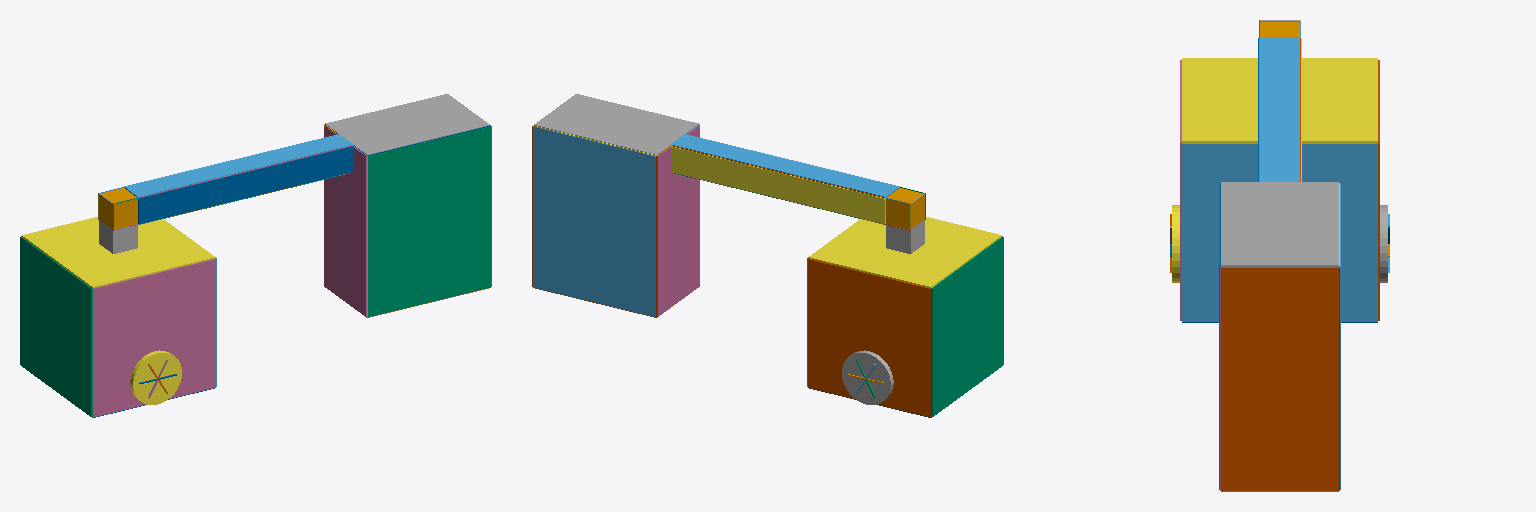
--- Facts derived from the render (not from the file) ---
Views: 3 orthographic renders of the robot side by side, from view 1: azimuth 30°, elevation 25°; view 2: azimuth 150°, elevation 25°; view 3: azimuth 270°, elevation 25°.
Robot: robot — 65 links, 64 joints (4 continuous, 60 fixed); root link body; default pose: every joint at zero.
Visible links, largest first — view 1: hand_sensor_0_right, body_sensor_0_right, body_sensor_0_stop, body_sensor_0_top, hand_sensor_0_stop, arm_sensor_0_right, hand_sensor_0_top, arm_sensor_0_top, right_wheel, joint_2, joint_1; view 2: hand_sensor_0_left, body_sensor_0_left, body_sensor_0_stop, body_sensor_0_top, hand_sensor_0_stop, arm_sensor_0_left, hand_sensor_0_top, arm_sensor_0_top, left_wheel, joint_2, joint_1; view 3: hand_sensor_0_start, body_sensor_0_start, body_sensor_0_top, hand_sensor_0_top, arm_sensor_0_top, left_wheel, right_wheel, joint_2.
Link boxes in pixels (x1,y1,x2,y2): hand_sensor_0_right: [368, 126, 490, 316]; body_sensor_0_right: [93, 258, 215, 417]; body_sensor_0_stop: [20, 237, 92, 416]; body_sensor_0_top: [22, 217, 215, 287]; hand_sensor_0_stop: [324, 125, 366, 316]; arm_sensor_0_right: [138, 146, 352, 223]; hand_sensor_0_top: [325, 94, 489, 154]; arm_sensor_0_top: [124, 134, 352, 197]; right_wheel: [130, 350, 181, 404]; joint_2: [99, 188, 137, 229]; joint_1: [99, 220, 137, 253]; hand_sensor_0_left: [533, 126, 655, 316]; body_sensor_0_left: [808, 258, 930, 417]; body_sensor_0_stop: [931, 237, 1003, 416]; body_sensor_0_top: [808, 217, 1001, 287]; hand_sensor_0_stop: [657, 125, 699, 316]; arm_sensor_0_left: [671, 146, 885, 223]; hand_sensor_0_top: [534, 94, 698, 154]; arm_sensor_0_top: [671, 134, 899, 197]; left_wheel: [842, 350, 893, 404]; joint_2: [886, 188, 924, 229]; joint_1: [886, 220, 924, 253]; hand_sensor_0_start: [1221, 267, 1338, 490]; body_sensor_0_start: [1182, 143, 1377, 321]; body_sensor_0_top: [1182, 58, 1377, 142]; hand_sensor_0_top: [1221, 182, 1338, 265]; arm_sensor_0_top: [1260, 37, 1299, 181]; left_wheel: [1380, 205, 1387, 282]; right_wheel: [1172, 205, 1179, 282]; joint_2: [1260, 22, 1299, 36].
Bounding box of the posed robot: 3.37 × 1.12 × 1.42 m (x, y, z).
Geometry: primitives only (box / cylinder / sphere), no mesh files.

robot.urdf — robot:
<?xml version="1.0"?>
    <robot name="robot">


    <!-- body -->
    <link name="body">
        <inertial>
            <origin xyz="0 0 0" rpy="0 0 0"/>
            <mass value="100"/>
            <inertia ixx="15" ixy="0" ixz="0" iyy="15" iyz="0" izz="15"/>
        </inertial>
        <visual>
            <origin xyz="0 0 0" rpy="0 0 0"/>
            <geometry>
                <box size="1 1 1"/>
            </geometry>
        </visual>
        <collision>
            <origin xyz="0 0 0" rpy="0 0 0"/>
            <geometry>
                <box size="1 1 1"/>
            </geometry>
        </collision>
    </link>


    <!-- body_sensor_0_start -->
    <link name="body_sensor_0_start">
        <inertial>
            <origin xyz="0 0 0" rpy="0 0 0"/>
            <mass value="0"/>
            <inertia ixx="0" ixy="0" ixz="0" iyy="0" iyz="0" izz="0"/>
        </inertial>
        <visual>
            <origin xyz="0 0 0" rpy="0 0 0"/>
            <geometry>
                <box size="0.02 1 1"/>
            </geometry>
        </visual>
        <collision>
            <origin xyz="0 0 0" rpy="0 0 0"/>
            <geometry>
                <box size="0.02 1 1"/>
            </geometry>
        </collision>
    </link>
    <!-- Joint: body, body_sensor_0_start -->
    <joint name="body_body_sensor_0_start_joint" type="fixed">
        <parent link="body"/>
        <child link="body_sensor_0_start"/>
        <origin xyz="0.5 0 0"
                rpy="0 0 0"/>
        <axis xyz="0 0 1"/>
        
    </joint>


    <!-- body_sensor_0_stop -->
    <link name="body_sensor_0_stop">
        <inertial>
            <origin xyz="0 0 0" rpy="0 0 0"/>
            <mass value="0"/>
            <inertia ixx="0" ixy="0" ixz="0" iyy="0" iyz="0" izz="0"/>
        </inertial>
        <visual>
            <origin xyz="0 0 0" rpy="0 0 0"/>
            <geometry>
                <box size="0.02 1 1"/>
            </geometry>
        </visual>
        <collision>
            <origin xyz="0 0 0" rpy="0 0 0"/>
            <geometry>
                <box size="0.02 1 1"/>
            </geometry>
        </collision>
    </link>
    <!-- Joint: body, body_sensor_0_stop -->
    <joint name="body_body_sensor_0_stop_joint" type="fixed">
        <parent link="body"/>
        <child link="body_sensor_0_stop"/>
        <origin xyz="-0.5 0 0"
                rpy="0 0 0"/>
        <axis xyz="0 0 1"/>
        
    </joint>


    <!-- body_sensor_0_top -->
    <link name="body_sensor_0_top">
        <inertial>
            <origin xyz="0 0 0" rpy="0 0 0"/>
            <mass value="0"/>
            <inertia ixx="0" ixy="0" ixz="0" iyy="0" iyz="0" izz="0"/>
        </inertial>
        <visual>
            <origin xyz="0 0 0" rpy="0 0 0"/>
            <geometry>
                <box size="1.0 1 0.02"/>
            </geometry>
        </visual>
        <collision>
            <origin xyz="0 0 0" rpy="0 0 0"/>
            <geometry>
                <box size="1.0 1 0.02"/>
            </geometry>
        </collision>
    </link>
    <!-- Joint: body, body_sensor_0_top -->
    <joint name="body_body_sensor_0_top_joint" type="fixed">
        <parent link="body"/>
        <child link="body_sensor_0_top"/>
        <origin xyz="0 0 0.5"
                rpy="0 0 0"/>
        <axis xyz="0 0 1"/>
        
    </joint>


    <!-- body_sensor_0_bottom -->
    <link name="body_sensor_0_bottom">
        <inertial>
            <origin xyz="0 0 0" rpy="0 0 0"/>
            <mass value="0"/>
            <inertia ixx="0" ixy="0" ixz="0" iyy="0" iyz="0" izz="0"/>
        </inertial>
        <visual>
            <origin xyz="0 0 0" rpy="0 0 0"/>
            <geometry>
                <box size="1.0 1 0.02"/>
            </geometry>
        </visual>
        <collision>
            <origin xyz="0 0 0" rpy="0 0 0"/>
            <geometry>
                <box size="1.0 1 0.02"/>
            </geometry>
        </collision>
    </link>
    <!-- Joint: body, body_sensor_0_bottom -->
    <joint name="body_body_sensor_0_bottom_joint" type="fixed">
        <parent link="body"/>
        <child link="body_sensor_0_bottom"/>
        <origin xyz="0 0 -0.5"
                rpy="0 0 0"/>
        <axis xyz="0 0 1"/>
        
    </joint>


    <!-- body_sensor_0_left -->
    <link name="body_sensor_0_left">
        <inertial>
            <origin xyz="0 0 0" rpy="0 0 0"/>
            <mass value="0"/>
            <inertia ixx="0" ixy="0" ixz="0" iyy="0" iyz="0" izz="0"/>
        </inertial>
        <visual>
            <origin xyz="0 0 0" rpy="0 0 0"/>
            <geometry>
                <box size="1.0 0.02 1"/>
            </geometry>
        </visual>
        <collision>
            <origin xyz="0 0 0" rpy="0 0 0"/>
            <geometry>
                <box size="1.0 0.02 1"/>
            </geometry>
        </collision>
    </link>
    <!-- Joint: body, body_sensor_0_left -->
    <joint name="body_body_sensor_0_left_joint" type="fixed">
        <parent link="body"/>
        <child link="body_sensor_0_left"/>
        <origin xyz="0 0.5 0"
                rpy="0 0 0"/>
        <axis xyz="0 0 1"/>
        
    </joint>


    <!-- body_sensor_0_right -->
    <link name="body_sensor_0_right">
        <inertial>
            <origin xyz="0 0 0" rpy="0 0 0"/>
            <mass value="0"/>
            <inertia ixx="0" ixy="0" ixz="0" iyy="0" iyz="0" izz="0"/>
        </inertial>
        <visual>
            <origin xyz="0 0 0" rpy="0 0 0"/>
            <geometry>
                <box size="1.0 0.02 1"/>
            </geometry>
        </visual>
        <collision>
            <origin xyz="0 0 0" rpy="0 0 0"/>
            <geometry>
                <box size="1.0 0.02 1"/>
            </geometry>
        </collision>
    </link>
    <!-- Joint: body, body_sensor_0_right -->
    <joint name="body_body_sensor_0_right_joint" type="fixed">
        <parent link="body"/>
        <child link="body_sensor_0_right"/>
        <origin xyz="0 -0.5 0"
                rpy="0 0 0"/>
        <axis xyz="0 0 1"/>
        
    </joint>


    <!-- left_wheel -->
    <link name="left_wheel">
        <inertial>
            <origin xyz="0 0 0" rpy="0 0 0"/>
            <mass value="0.1"/>
            <inertia ixx="0" ixy="0" ixz="0" iyy="0" iyz="0" izz="0"/>
        </inertial>
        <visual>
            <origin xyz="0 0 0" rpy="0 0 0"/>
            <geometry>
                <cylinder radius="0.2" length="0.1"/>
            </geometry>
        </visual>
        <collision>
            <origin xyz="0 0 0" rpy="0 0 0"/>
            <geometry>
                <cylinder radius="0.2" length="0.1"/>
            </geometry>
        </collision>
    </link>
    <!-- Joint: body, left_wheel -->
    <joint name="body_left_wheel_joint" type="continuous">
        <parent link="body"/>
        <child link="left_wheel"/>
        <origin xyz="0 0.5 -0.3"
                rpy="1.5708 0 0"/>
        <axis xyz="0 0 1"/>
        <limit lower="0" upper="0" effort="0" velocity="0"/>
    </joint>


    <!-- left_spoke_1 -->
    <link name="left_spoke_1">
        <inertial>
            <origin xyz="0 0 0" rpy="0 0 0"/>
            <mass value="0"/>
            <inertia ixx="0" ixy="0" ixz="0" iyy="0" iyz="0" izz="0"/>
        </inertial>
        <visual>
            <origin xyz="0 0 0" rpy="0 0 0"/>
            <geometry>
                <box size="0.3 0.01 0.1"/>
            </geometry>
        </visual>
        <collision>
            <origin xyz="0 0 0" rpy="0 0 0"/>
            <geometry>
                <box size="0.3 0.01 0.1"/>
            </geometry>
        </collision>
    </link>
    <!-- Joint: left_wheel, left_spoke_1 -->
    <joint name="left_wheel_left_spoke_1_joint" type="fixed">
        <parent link="left_wheel"/>
        <child link="left_spoke_1"/>
        <origin xyz="0 0 -0.01"
                rpy="0 0 0"/>
        <axis xyz="0 0 1"/>
        
    </joint>


    <!-- left_spoke_2 -->
    <link name="left_spoke_2">
        <inertial>
            <origin xyz="0 0 0" rpy="0 0 0"/>
            <mass value="0"/>
            <inertia ixx="0" ixy="0" ixz="0" iyy="0" iyz="0" izz="0"/>
        </inertial>
        <visual>
            <origin xyz="0 0 0" rpy="0 0 0"/>
            <geometry>
                <box size="0.01 0.3 0.1"/>
            </geometry>
        </visual>
        <collision>
            <origin xyz="0 0 0" rpy="0 0 0"/>
            <geometry>
                <box size="0.01 0.3 0.1"/>
            </geometry>
        </collision>
    </link>
    <!-- Joint: left_wheel, left_spoke_2 -->
    <joint name="left_wheel_left_spoke_2_joint" type="fixed">
        <parent link="left_wheel"/>
        <child link="left_spoke_2"/>
        <origin xyz="0 0 -0.01"
                rpy="0 0 0.524"/>
        <axis xyz="0 0 1"/>
        
    </joint>


    <!-- left_spoke_3 -->
    <link name="left_spoke_3">
        <inertial>
            <origin xyz="0 0 0" rpy="0 0 0"/>
            <mass value="0"/>
            <inertia ixx="0" ixy="0" ixz="0" iyy="0" iyz="0" izz="0"/>
        </inertial>
        <visual>
            <origin xyz="0 0 0" rpy="0 0 0"/>
            <geometry>
                <box size="0.01 0.3 0.1"/>
            </geometry>
        </visual>
        <collision>
            <origin xyz="0 0 0" rpy="0 0 0"/>
            <geometry>
                <box size="0.01 0.3 0.1"/>
            </geometry>
        </collision>
    </link>
    <!-- Joint: left_wheel, left_spoke_3 -->
    <joint name="left_wheel_left_spoke_3_joint" type="fixed">
        <parent link="left_wheel"/>
        <child link="left_spoke_3"/>
        <origin xyz="0 0 -0.01"
                rpy="0 0 -0.524"/>
        <axis xyz="0 0 1"/>
        
    </joint>


    <!-- right_wheel -->
    <link name="right_wheel">
        <inertial>
            <origin xyz="0 0 0" rpy="0 0 0"/>
            <mass value="0.1"/>
            <inertia ixx="0" ixy="0" ixz="0" iyy="0" iyz="0" izz="0"/>
        </inertial>
        <visual>
            <origin xyz="0 0 0" rpy="0 0 0"/>
            <geometry>
                <cylinder radius="0.2" length="0.1"/>
            </geometry>
        </visual>
        <collision>
            <origin xyz="0 0 0" rpy="0 0 0"/>
            <geometry>
                <cylinder radius="0.2" length="0.1"/>
            </geometry>
        </collision>
    </link>
    <!-- Joint: body, right_wheel -->
    <joint name="body_right_wheel_joint" type="continuous">
        <parent link="body"/>
        <child link="right_wheel"/>
        <origin xyz="0 -0.5 -0.3"
                rpy="1.5708 0 0"/>
        <axis xyz="0 0 1"/>
        <limit lower="0" upper="0" effort="0" velocity="0"/>
    </joint>


    <!-- right_spoke_1 -->
    <link name="right_spoke_1">
        <inertial>
            <origin xyz="0 0 0" rpy="0 0 0"/>
            <mass value="0"/>
            <inertia ixx="0" ixy="0" ixz="0" iyy="0" iyz="0" izz="0"/>
        </inertial>
        <visual>
            <origin xyz="0 0 0" rpy="0 0 0"/>
            <geometry>
                <box size="0.3 0.01 0.1"/>
            </geometry>
        </visual>
        <collision>
            <origin xyz="0 0 0" rpy="0 0 0"/>
            <geometry>
                <box size="0.3 0.01 0.1"/>
            </geometry>
        </collision>
    </link>
    <!-- Joint: right_wheel, right_spoke_1 -->
    <joint name="right_wheel_right_spoke_1_joint" type="fixed">
        <parent link="right_wheel"/>
        <child link="right_spoke_1"/>
        <origin xyz="0 0 0.01"
                rpy="0 0 0"/>
        <axis xyz="0 0 1"/>
        
    </joint>


    <!-- right_spoke_2 -->
    <link name="right_spoke_2">
        <inertial>
            <origin xyz="0 0 0" rpy="0 0 0"/>
            <mass value="0"/>
            <inertia ixx="0" ixy="0" ixz="0" iyy="0" iyz="0" izz="0"/>
        </inertial>
        <visual>
            <origin xyz="0 0 0" rpy="0 0 0"/>
            <geometry>
                <box size="0.01 0.3 0.1"/>
            </geometry>
        </visual>
        <collision>
            <origin xyz="0 0 0" rpy="0 0 0"/>
            <geometry>
                <box size="0.01 0.3 0.1"/>
            </geometry>
        </collision>
    </link>
    <!-- Joint: right_wheel, right_spoke_2 -->
    <joint name="right_wheel_right_spoke_2_joint" type="fixed">
        <parent link="right_wheel"/>
        <child link="right_spoke_2"/>
        <origin xyz="0 0 0.01"
                rpy="0 0 0.524"/>
        <axis xyz="0 0 1"/>
        
    </joint>


    <!-- right_spoke_3 -->
    <link name="right_spoke_3">
        <inertial>
            <origin xyz="0 0 0" rpy="0 0 0"/>
            <mass value="0"/>
            <inertia ixx="0" ixy="0" ixz="0" iyy="0" iyz="0" izz="0"/>
        </inertial>
        <visual>
            <origin xyz="0 0 0" rpy="0 0 0"/>
            <geometry>
                <box size="0.01 0.3 0.1"/>
            </geometry>
        </visual>
        <collision>
            <origin xyz="0 0 0" rpy="0 0 0"/>
            <geometry>
                <box size="0.01 0.3 0.1"/>
            </geometry>
        </collision>
    </link>
    <!-- Joint: right_wheel, right_spoke_3 -->
    <joint name="right_wheel_right_spoke_3_joint" type="fixed">
        <parent link="right_wheel"/>
        <child link="right_spoke_3"/>
        <origin xyz="0 0 0.01"
                rpy="0 0 -0.524"/>
        <axis xyz="0 0 1"/>
        
    </joint>


    <!-- joint_1 -->
    <link name="joint_1">
        <inertial>
            <origin xyz="0 0 0" rpy="0 0 0"/>
            <mass value="2"/>
            <inertia ixx="0.01" ixy="0" ixz="0" iyy="0.01" iyz="0" izz="0.01"/>
        </inertial>
        <visual>
            <origin xyz="0 0 0" rpy="0 0 0"/>
            <geometry>
                <box size="0.2 0.2 0.2"/>
            </geometry>
        </visual>
        <collision>
            <origin xyz="0 0 0" rpy="0 0 0"/>
            <geometry>
                <box size="0.2 0.2 0.2"/>
            </geometry>
        </collision>
    </link>
    <!-- Joint: body, joint_1 -->
    <joint name="body_joint_1_joint" type="continuous">
        <parent link="body"/>
        <child link="joint_1"/>
        <origin xyz="0 0 0.6"
                rpy="0 0 0"/>
        <axis xyz="0 0 1"/>
        <limit lower="-0.7853981633974483" upper="0.7853981633974483" effort="999" velocity="999"/>
    </joint>


    <!-- joint_2 -->
    <link name="joint_2">
        <inertial>
            <origin xyz="0 0 0" rpy="0 0 0"/>
            <mass value="2"/>
            <inertia ixx="0.01" ixy="0" ixz="0" iyy="0.01" iyz="0" izz="0.01"/>
        </inertial>
        <visual>
            <origin xyz="0 0 0" rpy="0 0 0"/>
            <geometry>
                <box size="0.2 0.2 0.2"/>
            </geometry>
        </visual>
        <collision>
            <origin xyz="0 0 0" rpy="0 0 0"/>
            <geometry>
                <box size="0.2 0.2 0.2"/>
            </geometry>
        </collision>
    </link>
    <!-- Joint: joint_1, joint_2 -->
    <joint name="joint_1_joint_2_joint" type="continuous">
        <parent link="joint_1"/>
        <child link="joint_2"/>
        <origin xyz="0 0 0.2"
                rpy="0 0 0"/>
        <axis xyz="0 1 0"/>
        <limit lower="-1.5707963267948966" upper="0" effort="999" velocity="999"/>
    </joint>


    <!-- joint_2_outline_1 -->
    <link name="joint_2_outline_1">
        <inertial>
            <origin xyz="0 0 0" rpy="0 0 0"/>
            <mass value="0"/>
            <inertia ixx="0" ixy="0" ixz="0" iyy="0" iyz="0" izz="0"/>
        </inertial>
        <visual>
            <origin xyz="0 0 0" rpy="0 0 0"/>
            <geometry>
                <box size="0.2 0.005 0.005"/>
            </geometry>
        </visual>
        <collision>
            <origin xyz="0 0 0" rpy="0 0 0"/>
            <geometry>
                <box size="0.2 0.005 0.005"/>
            </geometry>
        </collision>
    </link>
    <!-- Joint: joint_2, joint_2_outline_1 -->
    <joint name="joint_2_joint_2_outline_1_joint" type="fixed">
        <parent link="joint_2"/>
        <child link="joint_2_outline_1"/>
        <origin xyz="0 0.10250000000000001 0.10250000000000001"
                rpy="0 0 0"/>
        <axis xyz="0 1 0"/>
        
    </joint>


    <!-- joint_2_outline_2 -->
    <link name="joint_2_outline_2">
        <inertial>
            <origin xyz="0 0 0" rpy="0 0 0"/>
            <mass value="0"/>
            <inertia ixx="0" ixy="0" ixz="0" iyy="0" iyz="0" izz="0"/>
        </inertial>
        <visual>
            <origin xyz="0 0 0" rpy="0 0 0"/>
            <geometry>
                <box size="0.2 0.005 0.005"/>
            </geometry>
        </visual>
        <collision>
            <origin xyz="0 0 0" rpy="0 0 0"/>
            <geometry>
                <box size="0.2 0.005 0.005"/>
            </geometry>
        </collision>
    </link>
    <!-- Joint: joint_2, joint_2_outline_2 -->
    <joint name="joint_2_joint_2_outline_2_joint" type="fixed">
        <parent link="joint_2"/>
        <child link="joint_2_outline_2"/>
        <origin xyz="0 -0.10250000000000001 0.10250000000000001"
                rpy="0 0 0"/>
        <axis xyz="0 1 0"/>
        
    </joint>


    <!-- joint_2_outline_3 -->
    <link name="joint_2_outline_3">
        <inertial>
            <origin xyz="0 0 0" rpy="0 0 0"/>
            <mass value="0"/>
            <inertia ixx="0" ixy="0" ixz="0" iyy="0" iyz="0" izz="0"/>
        </inertial>
        <visual>
            <origin xyz="0 0 0" rpy="0 0 0"/>
            <geometry>
                <box size="0.005 0.005 0.20500000000000002"/>
            </geometry>
        </visual>
        <collision>
            <origin xyz="0 0 0" rpy="0 0 0"/>
            <geometry>
                <box size="0.005 0.005 0.20500000000000002"/>
            </geometry>
        </collision>
    </link>
    <!-- Joint: joint_2, joint_2_outline_3 -->
    <joint name="joint_2_joint_2_outline_3_joint" type="fixed">
        <parent link="joint_2"/>
        <child link="joint_2_outline_3"/>
        <origin xyz="-0.10250000000000001 0.10250000000000001 0.0025"
                rpy="0 0 0"/>
        <axis xyz="0 1 0"/>
        
    </joint>


    <!-- joint_2_outline_4 -->
    <link name="joint_2_outline_4">
        <inertial>
            <origin xyz="0 0 0" rpy="0 0 0"/>
            <mass value="0"/>
            <inertia ixx="0" ixy="0" ixz="0" iyy="0" iyz="0" izz="0"/>
        </inertial>
        <visual>
            <origin xyz="0 0 0" rpy="0 0 0"/>
            <geometry>
                <box size="0.005 0.005 0.20500000000000002"/>
            </geometry>
        </visual>
        <collision>
            <origin xyz="0 0 0" rpy="0 0 0"/>
            <geometry>
                <box size="0.005 0.005 0.20500000000000002"/>
            </geometry>
        </collision>
    </link>
    <!-- Joint: joint_2, joint_2_outline_4 -->
    <joint name="joint_2_joint_2_outline_4_joint" type="fixed">
        <parent link="joint_2"/>
        <child link="joint_2_outline_4"/>
        <origin xyz="-0.10250000000000001 -0.10250000000000001 0.0025"
                rpy="0 0 0"/>
        <axis xyz="0 1 0"/>
        
    </joint>


    <!-- joint_2_outline_5 -->
    <link name="joint_2_outline_5">
        <inertial>
            <origin xyz="0 0 0" rpy="0 0 0"/>
            <mass value="0"/>
            <inertia ixx="0" ixy="0" ixz="0" iyy="0" iyz="0" izz="0"/>
        </inertial>
        <visual>
            <origin xyz="0 0 0" rpy="0 0 0"/>
            <geometry>
                <box size="0.20500000000000002 0.005 0.005"/>
            </geometry>
        </visual>
        <collision>
            <origin xyz="0 0 0" rpy="0 0 0"/>
            <geometry>
                <box size="0.20500000000000002 0.005 0.005"/>
            </geometry>
        </collision>
    </link>
    <!-- Joint: joint_2, joint_2_outline_5 -->
    <joint name="joint_2_joint_2_outline_5_joint" type="fixed">
        <parent link="joint_2"/>
        <child link="joint_2_outline_5"/>
        <origin xyz="0.0025 0.10250000000000001 -0.10250000000000001"
                rpy="0 0 0"/>
        <axis xyz="0 1 0"/>
        
    </joint>


    <!-- joint_2_outline_6 -->
    <link name="joint_2_outline_6">
        <inertial>
            <origin xyz="0 0 0" rpy="0 0 0"/>
            <mass value="0"/>
            <inertia ixx="0" ixy="0" ixz="0" iyy="0" iyz="0" izz="0"/>
        </inertial>
        <visual>
            <origin xyz="0 0 0" rpy="0 0 0"/>
            <geometry>
                <box size="0.20500000000000002 0.005 0.005"/>
            </geometry>
        </visual>
        <collision>
            <origin xyz="0 0 0" rpy="0 0 0"/>
            <geometry>
                <box size="0.20500000000000002 0.005 0.005"/>
            </geometry>
        </collision>
    </link>
    <!-- Joint: joint_2, joint_2_outline_6 -->
    <joint name="joint_2_joint_2_outline_6_joint" type="fixed">
        <parent link="joint_2"/>
        <child link="joint_2_outline_6"/>
        <origin xyz="0.0025 -0.10250000000000001 -0.10250000000000001"
                rpy="0 0 0"/>
        <axis xyz="0 1 0"/>
        
    </joint>


    <!-- joint_2_outline_7 -->
    <link name="joint_2_outline_7">
        <inertial>
            <origin xyz="0 0 0" rpy="0 0 0"/>
            <mass value="0"/>
            <inertia ixx="0" ixy="0" ixz="0" iyy="0" iyz="0" izz="0"/>
        </inertial>
        <visual>
            <origin xyz="0 0 0" rpy="0 0 0"/>
            <geometry>
                <box size="0.005 0.20500000000000002 0.005"/>
            </geometry>
        </visual>
        <collision>
            <origin xyz="0 0 0" rpy="0 0 0"/>
            <geometry>
                <box size="0.005 0.20500000000000002 0.005"/>
            </geometry>
        </collision>
    </link>
    <!-- Joint: joint_2, joint_2_outline_7 -->
    <joint name="joint_2_joint_2_outline_7_joint" type="fixed">
        <parent link="joint_2"/>
        <child link="joint_2_outline_7"/>
        <origin xyz="-0.10250000000000001 0.0025 0.10250000000000001"
                rpy="0 0 0"/>
        <axis xyz="0 1 0"/>
        
    </joint>


    <!-- arm -->
    <link name="arm">
        <inertial>
            <origin xyz="0 0 0" rpy="0 0 0"/>
            <mass value="2"/>
            <inertia ixx="0.01" ixy="0" ixz="0" iyy="1.25" iyz="0" izz="1.25"/>
        </inertial>
        <visual>
            <origin xyz="0 0 0" rpy="0 0 0"/>
            <geometry>
                <box size="1.75 0.2 0.2"/>
            </geometry>
        </visual>
        <collision>
            <origin xyz="0 0 0" rpy="0 0 0"/>
            <geometry>
                <box size="1.75 0.2 0.2"/>
            </geometry>
        </collision>
    </link>


    <!-- arm_sensor_0_top -->
    <link name="arm_sensor_0_top">
        <inertial>
            <origin xyz="0 0 0" rpy="0 0 0"/>
            <mass value="0"/>
            <inertia ixx="0" ixy="0" ixz="0" iyy="0" iyz="0" izz="0"/>
        </inertial>
        <visual>
            <origin xyz="0 0 0" rpy="0 0 0"/>
            <geometry>
                <box size="1.75 0.2 0.02"/>
            </geometry>
        </visual>
        <collision>
            <origin xyz="0 0 0" rpy="0 0 0"/>
            <geometry>
                <box size="1.75 0.2 0.02"/>
            </geometry>
        </collision>
    </link>
    <!-- Joint: arm, arm_sensor_0_top -->
    <joint name="arm_arm_sensor_0_top_joint" type="fixed">
        <parent link="arm"/>
        <child link="arm_sensor_0_top"/>
        <origin xyz="0 0 0.1"
                rpy="0 0 0"/>
        <axis xyz="0 1 0"/>
        
    </joint>


    <!-- arm_sensor_0_bottom -->
    <link name="arm_sensor_0_bottom">
        <inertial>
            <origin xyz="0 0 0" rpy="0 0 0"/>
            <mass value="0"/>
            <inertia ixx="0" ixy="0" ixz="0" iyy="0" iyz="0" izz="0"/>
        </inertial>
        <visual>
            <origin xyz="0 0 0" rpy="0 0 0"/>
            <geometry>
                <box size="1.75 0.2 0.02"/>
            </geometry>
        </visual>
        <collision>
            <origin xyz="0 0 0" rpy="0 0 0"/>
            <geometry>
                <box size="1.75 0.2 0.02"/>
            </geometry>
        </collision>
    </link>
    <!-- Joint: arm, arm_sensor_0_bottom -->
    <joint name="arm_arm_sensor_0_bottom_joint" type="fixed">
        <parent link="arm"/>
        <child link="arm_sensor_0_bottom"/>
        <origin xyz="0 0 -0.1"
                rpy="0 0 0"/>
        <axis xyz="0 1 0"/>
        
    </joint>


    <!-- arm_sensor_0_left -->
    <link name="arm_sensor_0_left">
        <inertial>
            <origin xyz="0 0 0" rpy="0 0 0"/>
            <mass value="0"/>
            <inertia ixx="0" ixy="0" ixz="0" iyy="0" iyz="0" izz="0"/>
        </inertial>
        <visual>
            <origin xyz="0 0 0" rpy="0 0 0"/>
            <geometry>
                <box size="1.75 0.02 0.2"/>
            </geometry>
        </visual>
        <collision>
            <origin xyz="0 0 0" rpy="0 0 0"/>
            <geometry>
                <box size="1.75 0.02 0.2"/>
            </geometry>
        </collision>
    </link>
    <!-- Joint: arm, arm_sensor_0_left -->
    <joint name="arm_arm_sensor_0_left_joint" type="fixed">
        <parent link="arm"/>
        <child link="arm_sensor_0_left"/>
        <origin xyz="0 0.1 0"
                rpy="0 0 0"/>
        <axis xyz="0 1 0"/>
        
    </joint>


    <!-- arm_sensor_0_right -->
    <link name="arm_sensor_0_right">
        <inertial>
            <origin xyz="0 0 0" rpy="0 0 0"/>
            <mass value="0"/>
            <inertia ixx="0" ixy="0" ixz="0" iyy="0" iyz="0" izz="0"/>
        </inertial>
        <visual>
            <origin xyz="0 0 0" rpy="0 0 0"/>
            <geometry>
                <box size="1.75 0.02 0.2"/>
            </geometry>
        </visual>
        <collision>
            <origin xyz="0 0 0" rpy="0 0 0"/>
            <geometry>
                <box size="1.75 0.02 0.2"/>
            </geometry>
        </collision>
    </link>
    <!-- Joint: arm, arm_sensor_0_right -->
    <joint name="arm_arm_sensor_0_right_joint" type="fixed">
        <parent link="arm"/>
        <child link="arm_sensor_0_right"/>
        <origin xyz="0 -0.1 0"
                rpy="0 0 0"/>
        <axis xyz="0 1 0"/>
        
    </joint>
    <!-- Joint: joint_2, arm -->
    <joint name="joint_2_arm_joint" type="fixed">
        <parent link="joint_2"/>
        <child link="arm"/>
        <origin xyz="0.975 0 0"
                rpy="0 0 0"/>
        <axis xyz="0 1 0"/>
        
    </joint>


    <!-- arm_outline_1 -->
    <link name="arm_outline_1">
        <inertial>
            <origin xyz="0 0 0" rpy="0 0 0"/>
            <mass value="0"/>
            <inertia ixx="0" ixy="0" ixz="0" iyy="0" iyz="0" izz="0"/>
        </inertial>
        <visual>
            <origin xyz="0 0 0" rpy="0 0 0"/>
            <geometry>
                <box size="1.75 0.005 0.005"/>
            </geometry>
        </visual>
        <collision>
            <origin xyz="0 0 0" rpy="0 0 0"/>
            <geometry>
                <box size="1.75 0.005 0.005"/>
            </geometry>
        </collision>
    </link>
    <!-- Joint: arm, arm_outline_1 -->
    <joint name="arm_arm_outline_1_joint" type="fixed">
        <parent link="arm"/>
        <child link="arm_outline_1"/>
        <origin xyz="0 0.10250000000000001 0.10250000000000001"
                rpy="0 0 0"/>
        <axis xyz="0 1 0"/>
        
    </joint>


    <!-- arm_outline_2 -->
    <link name="arm_outline_2">
        <inertial>
            <origin xyz="0 0 0" rpy="0 0 0"/>
            <mass value="0"/>
            <inertia ixx="0" ixy="0" ixz="0" iyy="0" iyz="0" izz="0"/>
        </inertial>
        <visual>
            <origin xyz="0 0 0" rpy="0 0 0"/>
            <geometry>
                <box size="1.75 0.005 0.005"/>
            </geometry>
        </visual>
        <collision>
            <origin xyz="0 0 0" rpy="0 0 0"/>
            <geometry>
                <box size="1.75 0.005 0.005"/>
            </geometry>
        </collision>
    </link>
    <!-- Joint: arm, arm_outline_2 -->
    <joint name="arm_arm_outline_2_joint" type="fixed">
        <parent link="arm"/>
        <child link="arm_outline_2"/>
        <origin xyz="0 -0.10250000000000001 0.10250000000000001"
                rpy="0 0 0"/>
        <axis xyz="0 1 0"/>
        
    </joint>


    <!-- arm_outline_3 -->
    <link name="arm_outline_3">
        <inertial>
            <origin xyz="0 0 0" rpy="0 0 0"/>
            <mass value="0"/>
            <inertia ixx="0" ixy="0" ixz="0" iyy="0" iyz="0" izz="0"/>
        </inertial>
        <visual>
            <origin xyz="0 0 0" rpy="0 0 0"/>
            <geometry>
                <box size="1.75 0.005 0.005"/>
            </geometry>
        </visual>
        <collision>
            <origin xyz="0 0 0" rpy="0 0 0"/>
            <geometry>
                <box size="1.75 0.005 0.005"/>
            </geometry>
        </collision>
    </link>
    <!-- Joint: arm, arm_outline_3 -->
    <joint name="arm_arm_outline_3_joint" type="fixed">
        <parent link="arm"/>
        <child link="arm_outline_3"/>
        <origin xyz="0 0.10250000000000001 -0.10250000000000001"
                rpy="0 0 0"/>
        <axis xyz="0 1 0"/>
        
    </joint>


    <!-- arm_outline_4 -->
    <link name="arm_outline_4">
        <inertial>
            <origin xyz="0 0 0" rpy="0 0 0"/>
            <mass value="0"/>
            <inertia ixx="0" ixy="0" ixz="0" iyy="0" iyz="0" izz="0"/>
        </inertial>
        <visual>
            <origin xyz="0 0 0" rpy="0 0 0"/>
            <geometry>
                <box size="1.75 0.005 0.005"/>
            </geometry>
        </visual>
        <collision>
            <origin xyz="0 0 0" rpy="0 0 0"/>
            <geometry>
                <box size="1.75 0.005 0.005"/>
            </geometry>
        </collision>
    </link>
    <!-- Joint: arm, arm_outline_4 -->
    <joint name="arm_arm_outline_4_joint" type="fixed">
        <parent link="arm"/>
        <child link="arm_outline_4"/>
        <origin xyz="0 -0.10250000000000001 -0.10250000000000001"
                rpy="0 0 0"/>
        <axis xyz="0 1 0"/>
        
    </joint>


    <!-- arm_outline_5 -->
    <link name="arm_outline_5">
        <inertial>
            <origin xyz="0 0 0" rpy="0 0 0"/>
            <mass value="0"/>
            <inertia ixx="0" ixy="0" ixz="0" iyy="0" iyz="0" izz="0"/>
        </inertial>
        <visual>
            <origin xyz="0 0 0" rpy="0 0 0"/>
            <geometry>
                <box size="0.005 0.005 0.20500000000000002"/>
            </geometry>
        </visual>
        <collision>
            <origin xyz="0 0 0" rpy="0 0 0"/>
            <geometry>
                <box size="0.005 0.005 0.20500000000000002"/>
            </geometry>
        </collision>
    </link>
    <!-- Joint: arm, arm_outline_5 -->
    <joint name="arm_arm_outline_5_joint" type="fixed">
        <parent link="arm"/>
        <child link="arm_outline_5"/>
        <origin xyz="0.8724999999999999 0.10250000000000001 0"
                rpy="0 0 0"/>
        <axis xyz="0 1 0"/>
        
    </joint>


    <!-- arm_outline_6 -->
    <link name="arm_outline_6">
        <inertial>
            <origin xyz="0 0 0" rpy="0 0 0"/>
            <mass value="0"/>
            <inertia ixx="0" ixy="0" ixz="0" iyy="0" iyz="0" izz="0"/>
        </inertial>
        <visual>
            <origin xyz="0 0 0" rpy="0 0 0"/>
            <geometry>
                <box size="0.005 0.005 0.20500000000000002"/>
            </geometry>
        </visual>
        <collision>
            <origin xyz="0 0 0" rpy="0 0 0"/>
            <geometry>
                <box size="0.005 0.005 0.20500000000000002"/>
            </geometry>
        </collision>
    </link>
    <!-- Joint: arm, arm_outline_6 -->
    <joint name="arm_arm_outline_6_joint" type="fixed">
        <parent link="arm"/>
        <child link="arm_outline_6"/>
        <origin xyz="0.8724999999999999 -0.10250000000000001 0"
                rpy="0 0 0"/>
        <axis xyz="0 1 0"/>
        
    </joint>


    <!-- arm_outline_7 -->
    <link name="arm_outline_7">
        <inertial>
            <origin xyz="0 0 0" rpy="0 0 0"/>
            <mass value="0"/>
            <inertia ixx="0" ixy="0" ixz="0" iyy="0" iyz="0" izz="0"/>
        </inertial>
        <visual>
            <origin xyz="0 0 0" rpy="0 0 0"/>
            <geometry>
                <box size="0.005 0.20500000000000002 0.005"/>
            </geometry>
        </visual>
        <collision>
            <origin xyz="0 0 0" rpy="0 0 0"/>
            <geometry>
                <box size="0.005 0.20500000000000002 0.005"/>
            </geometry>
        </collision>
    </link>
    <!-- Joint: arm, arm_outline_7 -->
    <joint name="arm_arm_outline_7_joint" type="fixed">
        <parent link="arm"/>
        <child link="arm_outline_7"/>
        <origin xyz="0.8724999999999999 0 -0.10250000000000001"
                rpy="0 0 0"/>
        <axis xyz="0 1 0"/>
        
    </joint>


    <!-- hand -->
    <link name="hand">
        <inertial>
            <origin xyz="0 0 0" rpy="0 0 0"/>
            <mass value="2"/>
            <inertia ixx="0.3" ixy="0" ixz="0" iyy="0.4" iyz="0" izz="0.2"/>
        </inertial>
        <visual>
            <origin xyz="0 0 0" rpy="0 0 0"/>
            <geometry>
                <box size="1 0.6000000000000001 1.25"/>
            </geometry>
        </visual>
        <collision>
            <origin xyz="0 0 0" rpy="0 0 0"/>
            <geometry>
                <box size="1 0.6000000000000001 1.25"/>
            </geometry>
        </collision>
    </link>


    <!-- hand_sensor_0_start -->
    <link name="hand_sensor_0_start">
        <inertial>
            <origin xyz="0 0 0" rpy="0 0 0"/>
            <mass value="0"/>
            <inertia ixx="0" ixy="0" ixz="0" iyy="0" iyz="0" izz="0"/>
        </inertial>
        <visual>
            <origin xyz="0 0 0" rpy="0 0 0"/>
            <geometry>
                <box size="0.02 0.6000000000000001 1.25"/>
            </geometry>
        </visual>
        <collision>
            <origin xyz="0 0 0" rpy="0 0 0"/>
            <geometry>
                <box size="0.02 0.6000000000000001 1.25"/>
            </geometry>
        </collision>
    </link>
    <!-- Joint: hand, hand_sensor_0_start -->
    <joint name="hand_hand_sensor_0_start_joint" type="fixed">
        <parent link="hand"/>
        <child link="hand_sensor_0_start"/>
        <origin xyz="0.5 0 0"
                rpy="0 0 0"/>
        <axis xyz="0 1 0"/>
        
    </joint>


    <!-- hand_sensor_0_stop -->
    <link name="hand_sensor_0_stop">
        <inertial>
            <origin xyz="0 0 0" rpy="0 0 0"/>
            <mass value="0"/>
            <inertia ixx="0" ixy="0" ixz="0" iyy="0" iyz="0" izz="0"/>
        </inertial>
        <visual>
            <origin xyz="0 0 0" rpy="0 0 0"/>
            <geometry>
                <box size="0.02 0.6000000000000001 1.25"/>
            </geometry>
        </visual>
        <collision>
            <origin xyz="0 0 0" rpy="0 0 0"/>
            <geometry>
                <box size="0.02 0.6000000000000001 1.25"/>
            </geometry>
        </collision>
    </link>
    <!-- Joint: hand, hand_sensor_0_stop -->
    <joint name="hand_hand_sensor_0_stop_joint" type="fixed">
        <parent link="hand"/>
        <child link="hand_sensor_0_stop"/>
        <origin xyz="-0.5 0 0"
                rpy="0 0 0"/>
        <axis xyz="0 1 0"/>
        
    </joint>


    <!-- hand_sensor_0_top -->
    <link name="hand_sensor_0_top">
        <inertial>
            <origin xyz="0 0 0" rpy="0 0 0"/>
            <mass value="0"/>
            <inertia ixx="0" ixy="0" ixz="0" iyy="0" iyz="0" izz="0"/>
        </inertial>
        <visual>
            <origin xyz="0 0 0" rpy="0 0 0"/>
            <geometry>
                <box size="1.0 0.6000000000000001 0.02"/>
            </geometry>
        </visual>
        <collision>
            <origin xyz="0 0 0" rpy="0 0 0"/>
            <geometry>
                <box size="1.0 0.6000000000000001 0.02"/>
            </geometry>
        </collision>
    </link>
    <!-- Joint: hand, hand_sensor_0_top -->
    <joint name="hand_hand_sensor_0_top_joint" type="fixed">
        <parent link="hand"/>
        <child link="hand_sensor_0_top"/>
        <origin xyz="0 0 0.625"
                rpy="0 0 0"/>
        <axis xyz="0 1 0"/>
        
    </joint>


    <!-- hand_sensor_0_bottom -->
    <link name="hand_sensor_0_bottom">
        <inertial>
            <origin xyz="0 0 0" rpy="0 0 0"/>
            <mass value="0"/>
            <inertia ixx="0" ixy="0" ixz="0" iyy="0" iyz="0" izz="0"/>
        </inertial>
        <visual>
            <origin xyz="0 0 0" rpy="0 0 0"/>
            <geometry>
                <box size="1.0 0.6000000000000001 0.02"/>
            </geometry>
        </visual>
        <collision>
            <origin xyz="0 0 0" rpy="0 0 0"/>
            <geometry>
                <box size="1.0 0.6000000000000001 0.02"/>
            </geometry>
        </collision>
    </link>
    <!-- Joint: hand, hand_sensor_0_bottom -->
    <joint name="hand_hand_sensor_0_bottom_joint" type="fixed">
        <parent link="hand"/>
        <child link="hand_sensor_0_bottom"/>
        <origin xyz="0 0 -0.625"
                rpy="0 0 0"/>
        <axis xyz="0 1 0"/>
        
    </joint>


    <!-- hand_sensor_0_left -->
    <link name="hand_sensor_0_left">
        <inertial>
            <origin xyz="0 0 0" rpy="0 0 0"/>
            <mass value="0"/>
            <inertia ixx="0" ixy="0" ixz="0" iyy="0" iyz="0" izz="0"/>
        </inertial>
        <visual>
            <origin xyz="0 0 0" rpy="0 0 0"/>
            <geometry>
                <box size="1.0 0.02 1.25"/>
            </geometry>
        </visual>
        <collision>
            <origin xyz="0 0 0" rpy="0 0 0"/>
            <geometry>
                <box size="1.0 0.02 1.25"/>
            </geometry>
        </collision>
    </link>
    <!-- Joint: hand, hand_sensor_0_left -->
    <joint name="hand_hand_sensor_0_left_joint" type="fixed">
        <parent link="hand"/>
        <child link="hand_sensor_0_left"/>
        <origin xyz="0 0.30000000000000004 0"
                rpy="0 0 0"/>
        <axis xyz="0 1 0"/>
        
    </joint>


    <!-- hand_sensor_0_right -->
    <link name="hand_sensor_0_right">
        <inertial>
            <origin xyz="0 0 0" rpy="0 0 0"/>
            <mass value="0"/>
            <inertia ixx="0" ixy="0" ixz="0" iyy="0" iyz="0" izz="0"/>
        </inertial>
        <visual>
            <origin xyz="0 0 0" rpy="0 0 0"/>
            <geometry>
                <box size="1.0 0.02 1.25"/>
            </geometry>
        </visual>
        <collision>
            <origin xyz="0 0 0" rpy="0 0 0"/>
            <geometry>
                <box size="1.0 0.02 1.25"/>
            </geometry>
        </collision>
    </link>
    <!-- Joint: hand, hand_sensor_0_right -->
    <joint name="hand_hand_sensor_0_right_joint" type="fixed">
        <parent link="hand"/>
        <child link="hand_sensor_0_right"/>
        <origin xyz="0 -0.30000000000000004 0"
                rpy="0 0 0"/>
        <axis xyz="0 1 0"/>
        
    </joint>
    <!-- Joint: arm, hand -->
    <joint name="arm_hand_joint" type="fixed">
        <parent link="arm"/>
        <child link="hand"/>
        <origin xyz="1.375 0 -0.525"
                rpy="0 0 0"/>
        <axis xyz="0 1 0"/>
        
    </joint>


    <!-- hand_outline_1 -->
    <link name="hand_outline_1">
        <inertial>
            <origin xyz="0 0 0" rpy="0 0 0"/>
            <mass value="0"/>
            <inertia ixx="0" ixy="0" ixz="0" iyy="0" iyz="0" izz="0"/>
        </inertial>
        <visual>
            <origin xyz="0 0 0" rpy="0 0 0"/>
            <geometry>
                <box size="1.01 0.005 0.005"/>
            </geometry>
        </visual>
        <collision>
            <origin xyz="0 0 0" rpy="0 0 0"/>
            <geometry>
                <box size="1.01 0.005 0.005"/>
            </geometry>
        </collision>
    </link>
    <!-- Joint: hand, hand_outline_1 -->
    <joint name="hand_hand_outline_1_joint" type="fixed">
        <parent link="hand"/>
        <child link="hand_outline_1"/>
        <origin xyz="0 0.30250000000000005 0.6275"
                rpy="0 0 0"/>
        <axis xyz="0 1 0"/>
        
    </joint>


    <!-- hand_outline_2 -->
    <link name="hand_outline_2">
        <inertial>
            <origin xyz="0 0 0" rpy="0 0 0"/>
            <mass value="0"/>
            <inertia ixx="0" ixy="0" ixz="0" iyy="0" iyz="0" izz="0"/>
        </inertial>
        <visual>
            <origin xyz="0 0 0" rpy="0 0 0"/>
            <geometry>
                <box size="1.01 0.005 0.005"/>
            </geometry>
        </visual>
        <collision>
            <origin xyz="0 0 0" rpy="0 0 0"/>
            <geometry>
                <box size="1.01 0.005 0.005"/>
            </geometry>
        </collision>
    </link>
    <!-- Joint: hand, hand_outline_2 -->
    <joint name="hand_hand_outline_2_joint" type="fixed">
        <parent link="hand"/>
        <child link="hand_outline_2"/>
        <origin xyz="0 -0.30250000000000005 0.6275"
                rpy="0 0 0"/>
        <axis xyz="0 1 0"/>
        
    </joint>


    <!-- hand_outline_3 -->
    <link name="hand_outline_3">
        <inertial>
            <origin xyz="0 0 0" rpy="0 0 0"/>
            <mass value="0"/>
            <inertia ixx="0" ixy="0" ixz="0" iyy="0" iyz="0" izz="0"/>
        </inertial>
        <visual>
            <origin xyz="0 0 0" rpy="0 0 0"/>
            <geometry>
                <box size="1.01 0.005 0.005"/>
            </geometry>
        </visual>
        <collision>
            <origin xyz="0 0 0" rpy="0 0 0"/>
            <geometry>
                <box size="1.01 0.005 0.005"/>
            </geometry>
        </collision>
    </link>
    <!-- Joint: hand, hand_outline_3 -->
    <joint name="hand_hand_outline_3_joint" type="fixed">
        <parent link="hand"/>
        <child link="hand_outline_3"/>
        <origin xyz="0 0.30250000000000005 -0.6275"
                rpy="0 0 0"/>
        <axis xyz="0 1 0"/>
        
    </joint>


    <!-- hand_outline_4 -->
    <link name="hand_outline_4">
        <inertial>
            <origin xyz="0 0 0" rpy="0 0 0"/>
            <mass value="0"/>
            <inertia ixx="0" ixy="0" ixz="0" iyy="0" iyz="0" izz="0"/>
        </inertial>
        <visual>
            <origin xyz="0 0 0" rpy="0 0 0"/>
            <geometry>
                <box size="1.01 0.005 0.005"/>
            </geometry>
        </visual>
        <collision>
            <origin xyz="0 0 0" rpy="0 0 0"/>
            <geometry>
                <box size="1.01 0.005 0.005"/>
            </geometry>
        </collision>
    </link>
    <!-- Joint: hand, hand_outline_4 -->
    <joint name="hand_hand_outline_4_joint" type="fixed">
        <parent link="hand"/>
        <child link="hand_outline_4"/>
        <origin xyz="0 -0.30250000000000005 -0.6275"
                rpy="0 0 0"/>
        <axis xyz="0 1 0"/>
        
    </joint>


    <!-- hand_outline_5 -->
    <link name="hand_outline_5">
        <inertial>
            <origin xyz="0 0 0" rpy="0 0 0"/>
            <mass value="0"/>
            <inertia ixx="0" ixy="0" ixz="0" iyy="0" iyz="0" izz="0"/>
        </inertial>
        <visual>
            <origin xyz="0 0 0" rpy="0 0 0"/>
            <geometry>
                <box size="0.005 0.6000000000000001 0.005"/>
            </geometry>
        </visual>
        <collision>
            <origin xyz="0 0 0" rpy="0 0 0"/>
            <geometry>
                <box size="0.005 0.6000000000000001 0.005"/>
            </geometry>
        </collision>
    </link>
    <!-- Joint: hand, hand_outline_5 -->
    <joint name="hand_hand_outline_5_joint" type="fixed">
        <parent link="hand"/>
        <child link="hand_outline_5"/>
        <origin xyz="0.5025 0 0.6275"
                rpy="0 0 0"/>
        <axis xyz="0 1 0"/>
        
    </joint>


    <!-- hand_outline_6a -->
    <link name="hand_outline_6a">
        <inertial>
            <origin xyz="0 0 0" rpy="0 0 0"/>
            <mass value="0"/>
            <inertia ixx="0" ixy="0" ixz="0" iyy="0" iyz="0" izz="0"/>
        </inertial>
        <visual>
            <origin xyz="0 0 0" rpy="0 0 0"/>
            <geometry>
                <box size="0.005 0.20000000000000004 0.005"/>
            </geometry>
        </visual>
        <collision>
            <origin xyz="0 0 0" rpy="0 0 0"/>
            <geometry>
                <box size="0.005 0.20000000000000004 0.005"/>
            </geometry>
        </collision>
    </link>
    <!-- Joint: hand, hand_outline_6a -->
    <joint name="hand_hand_outline_6a_joint" type="fixed">
        <parent link="hand"/>
        <child link="hand_outline_6a"/>
        <origin xyz="-0.5025 0.2 0.6275"
                rpy="0 0 0"/>
        <axis xyz="0 1 0"/>
        
    </joint>


    <!-- hand_outline_6b -->
    <link name="hand_outline_6b">
        <inertial>
            <origin xyz="0 0 0" rpy="0 0 0"/>
            <mass value="0"/>
            <inertia ixx="0" ixy="0" ixz="0" iyy="0" iyz="0" izz="0"/>
        </inertial>
        <visual>
            <origin xyz="0 0 0" rpy="0 0 0"/>
            <geometry>
                <box size="0.005 0.20000000000000004 0.005"/>
            </geometry>
        </visual>
        <collision>
            <origin xyz="0 0 0" rpy="0 0 0"/>
            <geometry>
                <box size="0.005 0.20000000000000004 0.005"/>
            </geometry>
        </collision>
    </link>
    <!-- Joint: hand, hand_outline_6b -->
    <joint name="hand_hand_outline_6b_joint" type="fixed">
        <parent link="hand"/>
        <child link="hand_outline_6b"/>
        <origin xyz="-0.5025 -0.2 0.6275"
                rpy="0 0 0"/>
        <axis xyz="0 1 0"/>
        
    </joint>


    <!-- hand_outline_7 -->
    <link name="hand_outline_7">
        <inertial>
            <origin xyz="0 0 0" rpy="0 0 0"/>
            <mass value="0"/>
            <inertia ixx="0" ixy="0" ixz="0" iyy="0" iyz="0" izz="0"/>
        </inertial>
        <visual>
            <origin xyz="0 0 0" rpy="0 0 0"/>
            <geometry>
                <box size="0.005 0.6000000000000001 0.005"/>
            </geometry>
        </visual>
        <collision>
            <origin xyz="0 0 0" rpy="0 0 0"/>
            <geometry>
                <box size="0.005 0.6000000000000001 0.005"/>
            </geometry>
        </collision>
    </link>
    <!-- Joint: hand, hand_outline_7 -->
    <joint name="hand_hand_outline_7_joint" type="fixed">
        <parent link="hand"/>
        <child link="hand_outline_7"/>
        <origin xyz="0.5025 0 -0.6275"
                rpy="0 0 0"/>
        <axis xyz="0 1 0"/>
        
    </joint>


    <!-- hand_outline_8 -->
    <link name="hand_outline_8">
        <inertial>
            <origin xyz="0 0 0" rpy="0 0 0"/>
            <mass value="0"/>
            <inertia ixx="0" ixy="0" ixz="0" iyy="0" iyz="0" izz="0"/>
        </inertial>
        <visual>
            <origin xyz="0 0 0" rpy="0 0 0"/>
            <geometry>
                <box size="0.005 0.6000000000000001 0.005"/>
            </geometry>
        </visual>
        <collision>
            <origin xyz="0 0 0" rpy="0 0 0"/>
            <geometry>
                <box size="0.005 0.6000000000000001 0.005"/>
            </geometry>
        </collision>
    </link>
    <!-- Joint: hand, hand_outline_8 -->
    <joint name="hand_hand_outline_8_joint" type="fixed">
        <parent link="hand"/>
        <child link="hand_outline_8"/>
        <origin xyz="-0.5025 0 -0.6275"
                rpy="0 0 0"/>
        <axis xyz="0 1 0"/>
        
    </joint>


    <!-- hand_outline_9 -->
    <link name="hand_outline_9">
        <inertial>
            <origin xyz="0 0 0" rpy="0 0 0"/>
            <mass value="0"/>
            <inertia ixx="0" ixy="0" ixz="0" iyy="0" iyz="0" izz="0"/>
        </inertial>
        <visual>
            <origin xyz="0 0 0" rpy="0 0 0"/>
            <geometry>
                <box size="0.005 0.005 1.25"/>
            </geometry>
        </visual>
        <collision>
            <origin xyz="0 0 0" rpy="0 0 0"/>
            <geometry>
                <box size="0.005 0.005 1.25"/>
            </geometry>
        </collision>
    </link>
    <!-- Joint: hand, hand_outline_9 -->
    <joint name="hand_hand_outline_9_joint" type="fixed">
        <parent link="hand"/>
        <child link="hand_outline_9"/>
        <origin xyz="0.5025 0.30250000000000005 0"
                rpy="0 0 0"/>
        <axis xyz="0 1 0"/>
        
    </joint>


    <!-- hand_outline_10 -->
    <link name="hand_outline_10">
        <inertial>
            <origin xyz="0 0 0" rpy="0 0 0"/>
            <mass value="0"/>
            <inertia ixx="0" ixy="0" ixz="0" iyy="0" iyz="0" izz="0"/>
        </inertial>
        <visual>
            <origin xyz="0 0 0" rpy="0 0 0"/>
            <geometry>
                <box size="0.005 0.005 1.25"/>
            </geometry>
        </visual>
        <collision>
            <origin xyz="0 0 0" rpy="0 0 0"/>
            <geometry>
                <box size="0.005 0.005 1.25"/>
            </geometry>
        </collision>
    </link>
    <!-- Joint: hand, hand_outline_10 -->
    <joint name="hand_hand_outline_10_joint" type="fixed">
        <parent link="hand"/>
        <child link="hand_outline_10"/>
        <origin xyz="-0.5025 0.30250000000000005 0"
                rpy="0 0 0"/>
        <axis xyz="0 1 0"/>
        
    </joint>


    <!-- hand_outline_11 -->
    <link name="hand_outline_11">
        <inertial>
            <origin xyz="0 0 0" rpy="0 0 0"/>
            <mass value="0"/>
            <inertia ixx="0" ixy="0" ixz="0" iyy="0" iyz="0" izz="0"/>
        </inertial>
        <visual>
            <origin xyz="0 0 0" rpy="0 0 0"/>
            <geometry>
                <box size="0.005 0.005 1.25"/>
            </geometry>
        </visual>
        <collision>
            <origin xyz="0 0 0" rpy="0 0 0"/>
            <geometry>
                <box size="0.005 0.005 1.25"/>
            </geometry>
        </collision>
    </link>
    <!-- Joint: hand, hand_outline_11 -->
    <joint name="hand_hand_outline_11_joint" type="fixed">
        <parent link="hand"/>
        <child link="hand_outline_11"/>
        <origin xyz="0.5025 -0.30250000000000005 0"
                rpy="0 0 0"/>
        <axis xyz="0 1 0"/>
        
    </joint>


    <!-- hand_outline_12 -->
    <link name="hand_outline_12">
        <inertial>
            <origin xyz="0 0 0" rpy="0 0 0"/>
            <mass value="0"/>
            <inertia ixx="0" ixy="0" ixz="0" iyy="0" iyz="0" izz="0"/>
        </inertial>
        <visual>
            <origin xyz="0 0 0" rpy="0 0 0"/>
            <geometry>
                <box size="0.005 0.005 1.25"/>
            </geometry>
        </visual>
        <collision>
            <origin xyz="0 0 0" rpy="0 0 0"/>
            <geometry>
                <box size="0.005 0.005 1.25"/>
            </geometry>
        </collision>
    </link>
    <!-- Joint: hand, hand_outline_12 -->
    <joint name="hand_hand_outline_12_joint" type="fixed">
        <parent link="hand"/>
        <child link="hand_outline_12"/>
        <origin xyz="-0.5025 -0.30250000000000005 0"
                rpy="0 0 0"/>
        <axis xyz="0 1 0"/>
        
    </joint>


    <!-- body_face_front_0 -->
    <link name="body_face_front_0">
        <inertial>
            <origin xyz="0 0 0" rpy="0 0 0"/>
            <mass value="0"/>
            <inertia ixx="0.05" ixy="0.05" ixz="0.05" iyy="0.05" iyz="0.05" izz="0.05"/>
        </inertial>
        <visual>
            <origin xyz="0 0 0" rpy="0 0 0"/>
            <geometry>
                <box size="0.002 0.1111111111111111 0.1111111111111111"/>
            </geometry>
        </visual>
        <collision>
            <origin xyz="0 0 0" rpy="0 0 0"/>
            <geometry>
                <box size="0.002 0.1111111111111111 0.1111111111111111"/>
            </geometry>
        </collision>
    </link>
    <!-- Joint: body, body_face_front_0 -->
    <joint name="body_body_face_front_0_joint" type="fixed">
        <parent link="body"/>
        <child link="body_face_front_0"/>
        <origin xyz="0.501 -0.33333333333333337 0.11111111111111116"
                rpy="0 0 0"/>
        <axis xyz="0 0 1"/>
        
    </joint>


    <!-- body_face_front_1 -->
    <link name="body_face_front_1">
        <inertial>
            <origin xyz="0 0 0" rpy="0 0 0"/>
            <mass value="0"/>
            <inertia ixx="0.05" ixy="0.05" ixz="0.05" iyy="0.05" iyz="0.05" izz="0.05"/>
        </inertial>
        <visual>
            <origin xyz="0 0 0" rpy="0 0 0"/>
            <geometry>
                <box size="0.002 0.1111111111111111 0.1111111111111111"/>
            </geometry>
        </visual>
        <collision>
            <origin xyz="0 0 0" rpy="0 0 0"/>
            <geometry>
                <box size="0.002 0.1111111111111111 0.1111111111111111"/>
            </geometry>
        </collision>
    </link>
    <!-- Joint: body, body_face_front_1 -->
    <joint name="body_body_face_front_1_joint" type="fixed">
        <parent link="body"/>
        <child link="body_face_front_1"/>
        <origin xyz="0.501 -0.2222222222222222 0.2222222222222222"
                rpy="0 0 0"/>
        <axis xyz="0 0 1"/>
        
    </joint>


    <!-- body_face_front_2 -->
    <link name="body_face_front_2">
        <inertial>
            <origin xyz="0 0 0" rpy="0 0 0"/>
            <mass value="0"/>
            <inertia ixx="0.05" ixy="0.05" ixz="0.05" iyy="0.05" iyz="0.05" izz="0.05"/>
        </inertial>
        <visual>
            <origin xyz="0 0 0" rpy="0 0 0"/>
            <geometry>
                <box size="0.002 0.1111111111111111 0.1111111111111111"/>
            </geometry>
        </visual>
        <collision>
            <origin xyz="0 0 0" rpy="0 0 0"/>
            <geometry>
                <box size="0.002 0.1111111111111111 0.1111111111111111"/>
            </geometry>
        </collision>
    </link>
    <!-- Joint: body, body_face_front_2 -->
    <joint name="body_body_face_front_2_joint" type="fixed">
        <parent link="body"/>
        <child link="body_face_front_2"/>
        <origin xyz="0.501 -0.1111111111111111 0.11111111111111116"
                rpy="0 0 0"/>
        <axis xyz="0 0 1"/>
        
    </joint>


    <!-- body_face_front_3 -->
    <link name="body_face_front_3">
        <inertial>
            <origin xyz="0 0 0" rpy="0 0 0"/>
            <mass value="0"/>
            <inertia ixx="0.05" ixy="0.05" ixz="0.05" iyy="0.05" iyz="0.05" izz="0.05"/>
        </inertial>
        <visual>
            <origin xyz="0 0 0" rpy="0 0 0"/>
            <geometry>
                <box size="0.002 0.1111111111111111 0.1111111111111111"/>
            </geometry>
        </visual>
        <collision>
            <origin xyz="0 0 0" rpy="0 0 0"/>
            <geometry>
                <box size="0.002 0.1111111111111111 0.1111111111111111"/>
            </geometry>
        </collision>
    </link>
    <!-- Joint: body, body_face_front_3 -->
    <joint name="body_body_face_front_3_joint" type="fixed">
        <parent link="body"/>
        <child link="body_face_front_3"/>
        <origin xyz="0.501 -0.1111111111111111 -0.2222222222222222"
                rpy="0 0 0"/>
        <axis xyz="0 0 1"/>
        
    </joint>


    <!-- body_face_front_4 -->
    <link name="body_face_front_4">
        <inertial>
            <origin xyz="0 0 0" rpy="0 0 0"/>
            <mass value="0"/>
            <inertia ixx="0.05" ixy="0.05" ixz="0.05" iyy="0.05" iyz="0.05" izz="0.05"/>
        </inertial>
        <visual>
            <origin xyz="0 0 0" rpy="0 0 0"/>
            <geometry>
                <box size="0.002 0.1111111111111111 0.1111111111111111"/>
            </geometry>
        </visual>
        <collision>
            <origin xyz="0 0 0" rpy="0 0 0"/>
            <geometry>
                <box size="0.002 0.1111111111111111 0.1111111111111111"/>
            </geometry>
        </collision>
    </link>
    <!-- Joint: body, body_face_front_4 -->
    <joint name="body_body_face_front_4_joint" type="fixed">
        <parent link="body"/>
        <child link="body_face_front_4"/>
        <origin xyz="0.501 0.0 -0.2222222222222222"
                rpy="0 0 0"/>
        <axis xyz="0 0 1"/>
        
    </joint>


    <!-- body_face_front_5 -->
    <link name="body_face_front_5">
        <inertial>
            <origin xyz="0 0 0" rpy="0 0 0"/>
            <mass value="0"/>
            <inertia ixx="0.05" ixy="0.05" ixz="0.05" iyy="0.05" iyz="0.05" izz="0.05"/>
        </inertial>
        <visual>
            <origin xyz="0 0 0" rpy="0 0 0"/>
            <geometry>
                <box size="0.002 0.1111111111111111 0.1111111111111111"/>
            </geometry>
        </visual>
        <collision>
            <origin xyz="0 0 0" rpy="0 0 0"/>
            <geometry>
                <box size="0.002 0.1111111111111111 0.1111111111111111"/>
            </geometry>
        </collision>
    </link>
    <!-- Joint: body, body_face_front_5 -->
    <joint name="body_body_face_front_5_joint" type="fixed">
        <parent link="body"/>
        <child link="body_face_front_5"/>
        <origin xyz="0.501 0.11111111111111116 0.11111111111111116"
                rpy="0 0 0"/>
        <axis xyz="0 0 1"/>
        
    </joint>


    <!-- body_face_front_6 -->
    <link name="body_face_front_6">
        <inertial>
            <origin xyz="0 0 0" rpy="0 0 0"/>
            <mass value="0"/>
            <inertia ixx="0.05" ixy="0.05" ixz="0.05" iyy="0.05" iyz="0.05" izz="0.05"/>
        </inertial>
        <visual>
            <origin xyz="0 0 0" rpy="0 0 0"/>
            <geometry>
                <box size="0.002 0.1111111111111111 0.1111111111111111"/>
            </geometry>
        </visual>
        <collision>
            <origin xyz="0 0 0" rpy="0 0 0"/>
            <geometry>
                <box size="0.002 0.1111111111111111 0.1111111111111111"/>
            </geometry>
        </collision>
    </link>
    <!-- Joint: body, body_face_front_6 -->
    <joint name="body_body_face_front_6_joint" type="fixed">
        <parent link="body"/>
        <child link="body_face_front_6"/>
        <origin xyz="0.501 0.11111111111111116 -0.2222222222222222"
                rpy="0 0 0"/>
        <axis xyz="0 0 1"/>
        
    </joint>


    <!-- body_face_front_7 -->
    <link name="body_face_front_7">
        <inertial>
            <origin xyz="0 0 0" rpy="0 0 0"/>
            <mass value="0"/>
            <inertia ixx="0.05" ixy="0.05" ixz="0.05" iyy="0.05" iyz="0.05" izz="0.05"/>
        </inertial>
        <visual>
            <origin xyz="0 0 0" rpy="0 0 0"/>
            <geometry>
                <box size="0.002 0.1111111111111111 0.1111111111111111"/>
            </geometry>
        </visual>
        <collision>
            <origin xyz="0 0 0" rpy="0 0 0"/>
            <geometry>
                <box size="0.002 0.1111111111111111 0.1111111111111111"/>
            </geometry>
        </collision>
    </link>
    <!-- Joint: body, body_face_front_7 -->
    <joint name="body_body_face_front_7_joint" type="fixed">
        <parent link="body"/>
        <child link="body_face_front_7"/>
        <origin xyz="0.501 0.2222222222222222 0.2222222222222222"
                rpy="0 0 0"/>
        <axis xyz="0 0 1"/>
        
    </joint>


    <!-- body_face_front_8 -->
    <link name="body_face_front_8">
        <inertial>
            <origin xyz="0 0 0" rpy="0 0 0"/>
            <mass value="0"/>
            <inertia ixx="0.05" ixy="0.05" ixz="0.05" iyy="0.05" iyz="0.05" izz="0.05"/>
        </inertial>
        <visual>
            <origin xyz="0 0 0" rpy="0 0 0"/>
            <geometry>
                <box size="0.002 0.1111111111111111 0.1111111111111111"/>
            </geometry>
        </visual>
        <collision>
            <origin xyz="0 0 0" rpy="0 0 0"/>
            <geometry>
                <box size="0.002 0.1111111111111111 0.1111111111111111"/>
            </geometry>
        </collision>
    </link>
    <!-- Joint: body, body_face_front_8 -->
    <joint name="body_body_face_front_8_joint" type="fixed">
        <parent link="body"/>
        <child link="body_face_front_8"/>
        <origin xyz="0.501 0.33333333333333337 0.11111111111111116"
                rpy="0 0 0"/>
        <axis xyz="0 0 1"/>
        
    </joint>


</robot>
